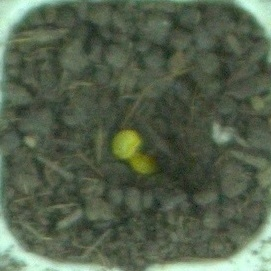pepper seed: (51, 66, 210, 242), (40, 50, 181, 210)
